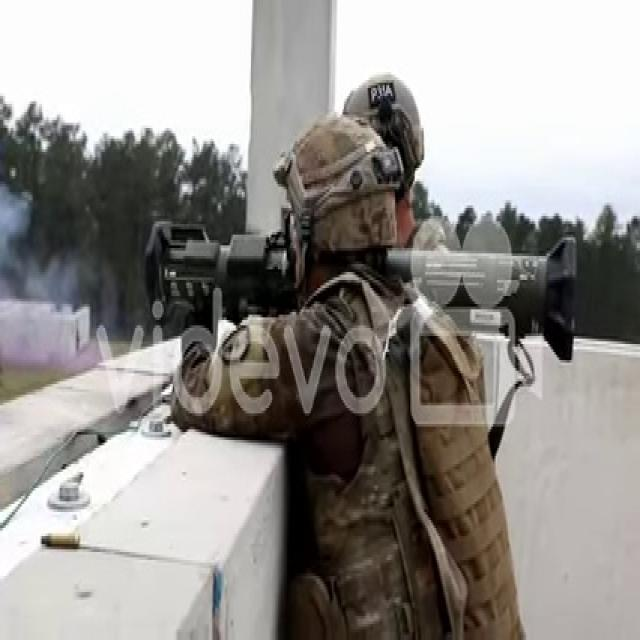bazooka: (141, 215, 585, 365)
